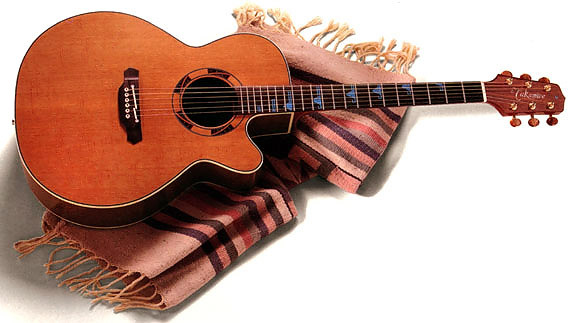guitar: (13, 10, 566, 228)
